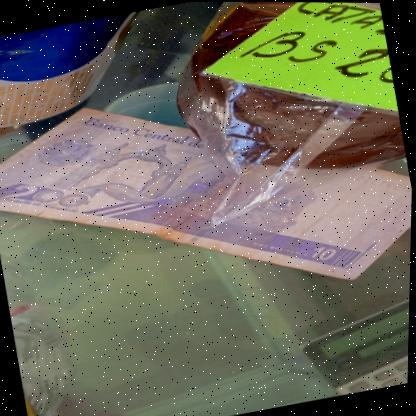ten-back-vef: (0, 46, 415, 345)
